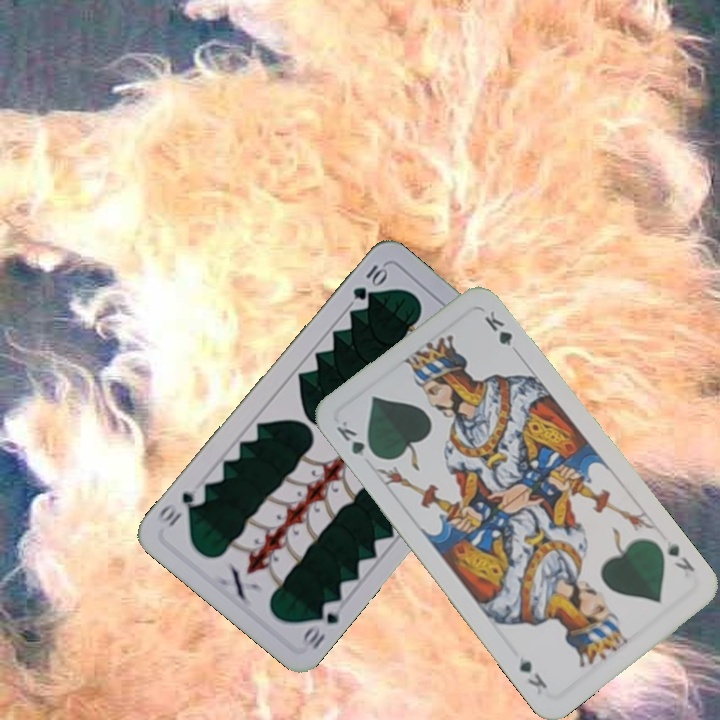G10: (297, 596, 343, 652), (348, 260, 390, 303)
GK: (332, 416, 380, 461), (662, 536, 698, 575)
